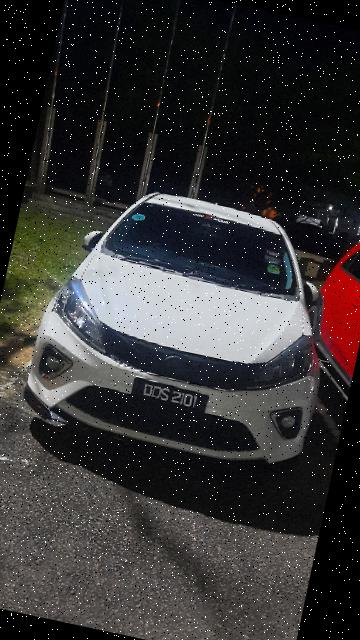License_Plate: (130, 376, 211, 419)
car: (16, 171, 354, 482), (292, 227, 360, 413)
